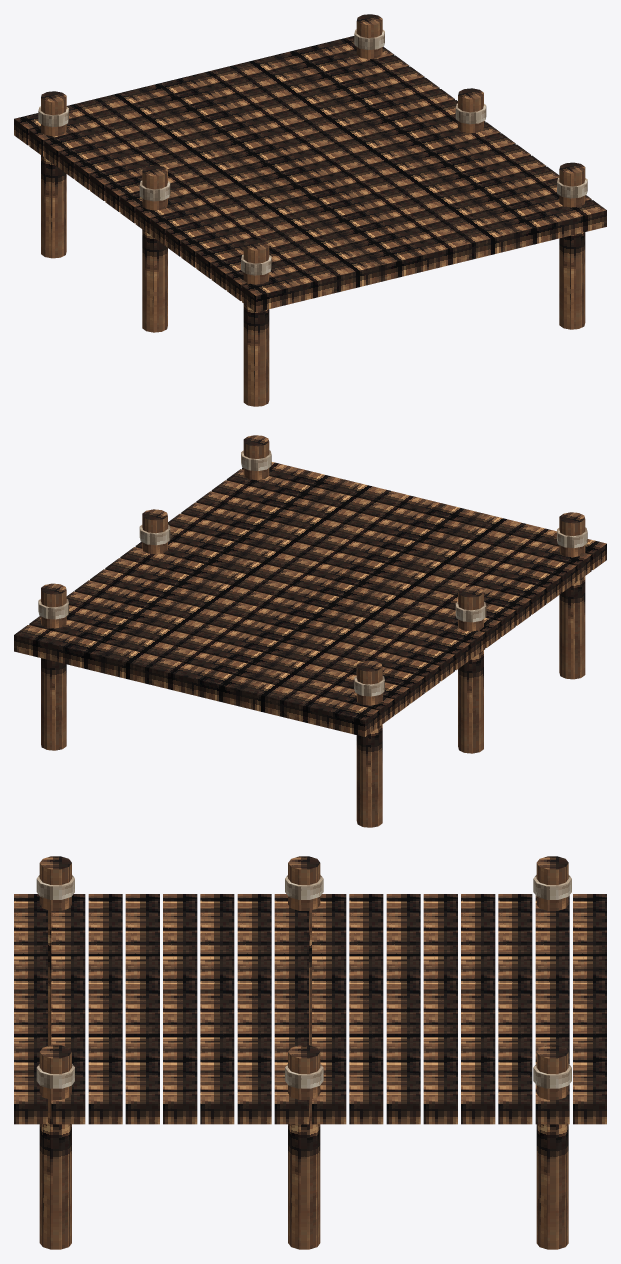
Rendered from dock.glb.
3 renders of one model, top to bottom at view 1: azimuth 30°, elevation 25°; view 2: azimuth 150°, elevation 25°; view 3: azimuth 270°, elevation 25°, orthographic. The views are drawn at different scales.
Parts seen in each view (by area): view 1: dock_p9_wood, dock_p9_canvas; view 2: dock_p9_wood, dock_p9_canvas; view 3: dock_p9_wood, dock_p9_canvas.
Boxes of the visible parts, left/top/right/bottom form: dock_p9_wood: left=14, top=14, right=606, bottom=406; dock_p9_canvas: left=38, top=29, right=587, bottom=275; dock_p9_wood: left=14, top=435, right=606, bottom=827; dock_p9_canvas: left=38, top=450, right=587, bottom=696; dock_p9_wood: left=14, top=856, right=606, bottom=1249; dock_p9_canvas: left=36, top=875, right=571, bottom=1088.
Size of the model in its own units: 4 by 1.7 by 4.77.
2 materials, 2 textured.
